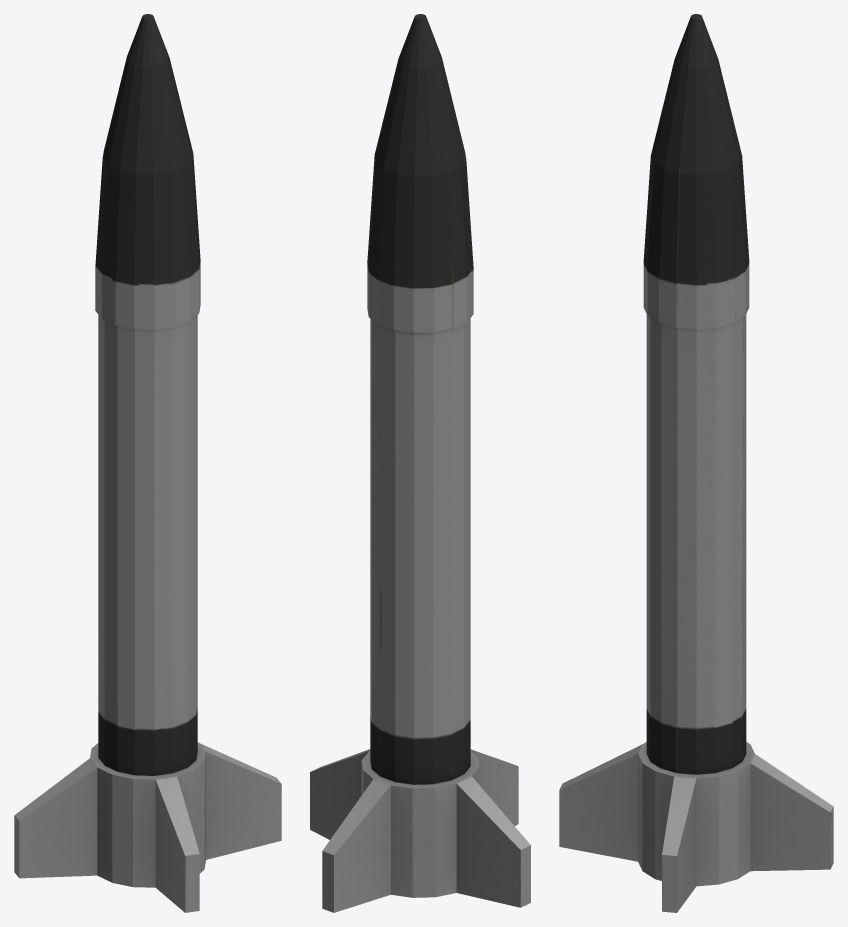
Rendered from Rocket.fbx.
The picture shows the model from 3 angles, left to right: view 1: azimuth 30°, elevation 25°; view 2: azimuth 150°, elevation 25°; view 3: azimuth 270°, elevation 25°; orthographic projection.
Visible parts, largest first — view 1: Cylinder.002; view 2: Cylinder.002; view 3: Cylinder.002.
Boxes of the visible parts, x1,y1,x2,y2 form: Cylinder.002: (14, 14, 281, 912); Cylinder.002: (310, 14, 530, 912); Cylinder.002: (559, 14, 833, 912).
Size of the model in its own units: 150 by 510 by 150.
Materials: 1 (1 with a texture image).
